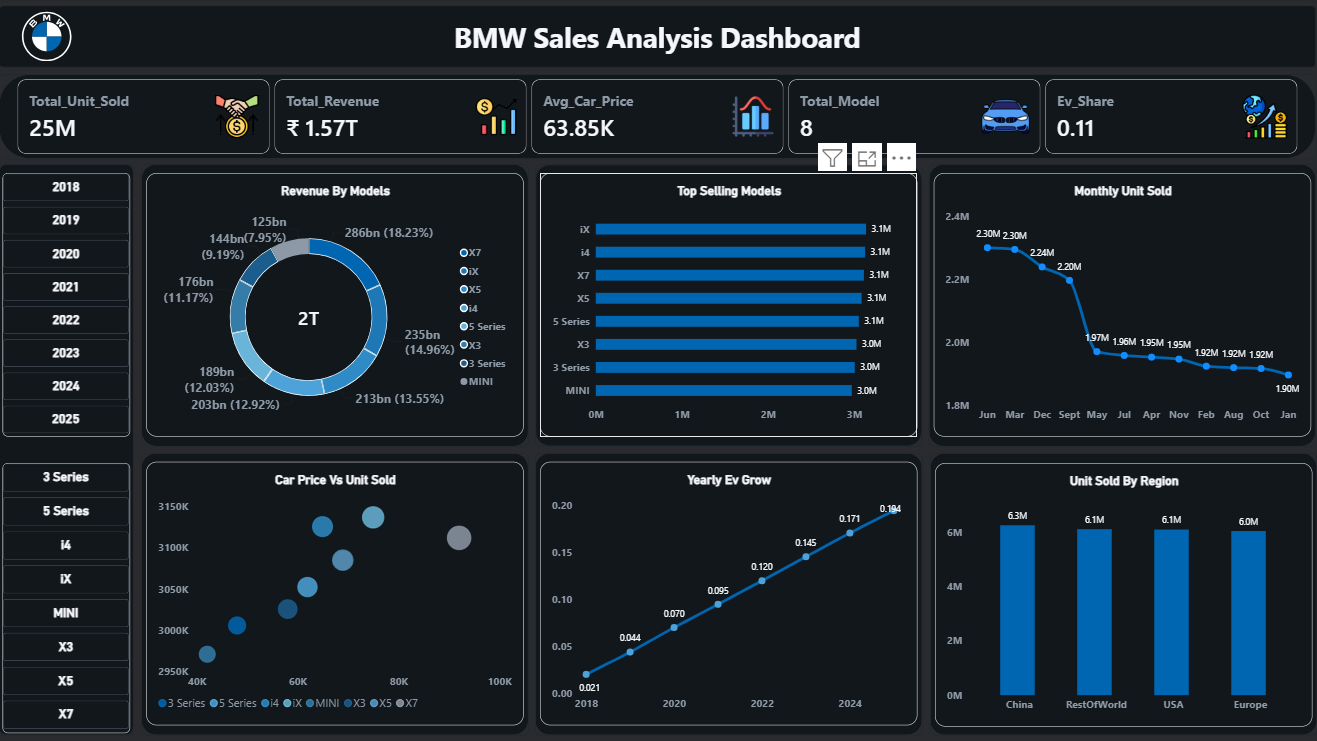

What the dashboard file says about the page in this screenshot:
{"tool":"powerbi","page":{"name":"Page 1","canvas":[1920,1080],"ordinal":0},"visuals":[{"type":"shape","box":[5.4,10.9,1907.4,90],"z":0},{"type":"shape","box":[5.4,110.4,1907.4,123.1],"z":1000},{"type":"cardVisual","fields":{"Data":["BMW_Sales.Total_Unit_Sold","BMW_Sales.Total_Revenue","BMW_Sales.Avg_Car_Price","BMW_Sales.Total_Model","BMW_Sales.Ev_Share"]},"box":[32.6,117.6,1854.9,108.6],"z":2000},{"type":"shape","box":[1351.8,240.7,561,409],"z":3000},{"type":"lineChart","title":"Monthly Unit Sold","fields":{"Category":["BMW_Sales.Month_Name"],"Y":["BMW_Sales.Total_Unit_Sold"]},"box":[1359.1,253.4,546.5,381.8],"z":4000},{"type":"shape","box":[1353.6,658.7,561,409],"z":5000},{"type":"shape","box":[781.8,658.7,561,409],"z":6000},{"type":"shape","box":[781.8,240.7,561,409],"z":7000},{"type":"shape","box":[211.7,240.7,561,409],"z":8000},{"type":"shape","box":[211.7,658.7,561,409],"z":9000},{"type":"clusteredColumnChart","title":"Unit Sold By Region","fields":{"Category":["BMW_Sales.Region"],"Y":["BMW_Sales.Total_Unit_Sold"]},"box":[1360.9,673.2,546.5,381.8],"z":10000},{"type":"clusteredBarChart","title":"Top  Selling Models","fields":{"Category":["BMW_Sales.Model"],"Y":["BMW_Sales.Total_Unit_Sold"]},"box":[789,253.4,546.5,381.8],"z":11000},{"type":"donutChart","title":"Revenue By Models","fields":{"Category":["BMW_Sales.Model"],"Y":["BMW_Sales.Total_Revenue"]},"box":[219,253.4,546.5,381.8],"z":12000},{"type":"lineChart","title":"Yearly Ev Grow","fields":{"Category":["BMW_Sales.Year"],"Y":["BMW_Sales.Ev_Share"]},"box":[789,671.4,546.5,381.8],"z":13000},{"type":"scatterChart","title":"Car Price Vs Unit Sold","fields":{"X":["BMW_Sales.Avg_Car_Price"],"Y":["BMW_Sales.Total_Unit_Sold"],"Size":["BMW_Sales.Total_Revenue"],"Series":["BMW_Sales.Model"]},"box":[219,671.4,546.5,381.8],"z":14000},{"type":"shape","box":[5.4,240.7,195.4,827],"z":15000},{"type":"advancedSlicerVisual","fields":{"Values":["BMW_Sales.Year"]},"box":[10.9,253.4,184.6,381.8],"z":16000},{"type":"advancedSlicerVisual","title":"Models","fields":{"Values":["BMW_Sales.Model"]},"box":[10.9,673.2,184.6,390.9],"z":17000}]}

Visuals, with their boxes in screenshot pixels (x1, y1, x2, y2), scaled from the page's 1920x1080 canvas onto the 1317x741 screenshot:
shape: x1=4, y1=7, x2=1312, y2=69
shape: x1=4, y1=76, x2=1312, y2=160
cardVisual - BMW_Sales.Total_Unit_Sold x BMW_Sales.Total_Revenue: x1=22, y1=81, x2=1295, y2=155
shape: x1=927, y1=165, x2=1312, y2=446
"Monthly Unit Sold" lineChart: x1=932, y1=174, x2=1307, y2=436
shape: x1=928, y1=452, x2=1313, y2=733
shape: x1=536, y1=452, x2=921, y2=733
shape: x1=536, y1=165, x2=921, y2=446
shape: x1=145, y1=165, x2=530, y2=446
shape: x1=145, y1=452, x2=530, y2=733
"Unit Sold By Region" clusteredColumnChart: x1=933, y1=462, x2=1308, y2=724
"Top  Selling Models" clusteredBarChart: x1=541, y1=174, x2=916, y2=436
"Revenue By Models" donutChart: x1=150, y1=174, x2=525, y2=436
"Yearly Ev Grow" lineChart: x1=541, y1=461, x2=916, y2=723
"Car Price Vs Unit Sold" scatterChart: x1=150, y1=461, x2=525, y2=723
shape: x1=4, y1=165, x2=138, y2=733
advancedSlicerVisual - BMW_Sales.Year: x1=7, y1=174, x2=134, y2=436
"Models" advancedSlicerVisual: x1=7, y1=462, x2=134, y2=730
